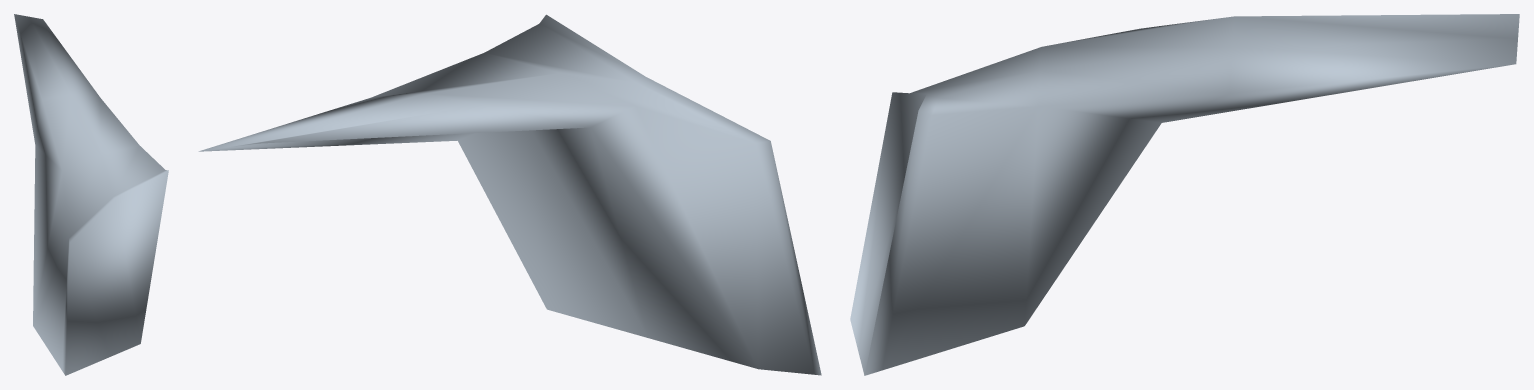
Rendered from infrapatellar-fat-pad-r.glb.
The picture shows the model from 3 angles, left to right: view 1: azimuth 30°, elevation 25°; view 2: azimuth 150°, elevation 25°; view 3: azimuth 270°, elevation 25°; orthographic projection. The views are drawn at different scales.
Visible parts, largest first — view 1: Infrapatellar fat pad.r; view 2: Infrapatellar fat pad.r; view 3: Infrapatellar fat pad.r.
Part boxes in pixels (x1,y1,x2,y2): Infrapatellar fat pad.r: (14,14,168,375); Infrapatellar fat pad.r: (198,14,821,375); Infrapatellar fat pad.r: (850,14,1519,375).
Size of the model in its own units: 0.0134 by 0.0185 by 0.0269.
